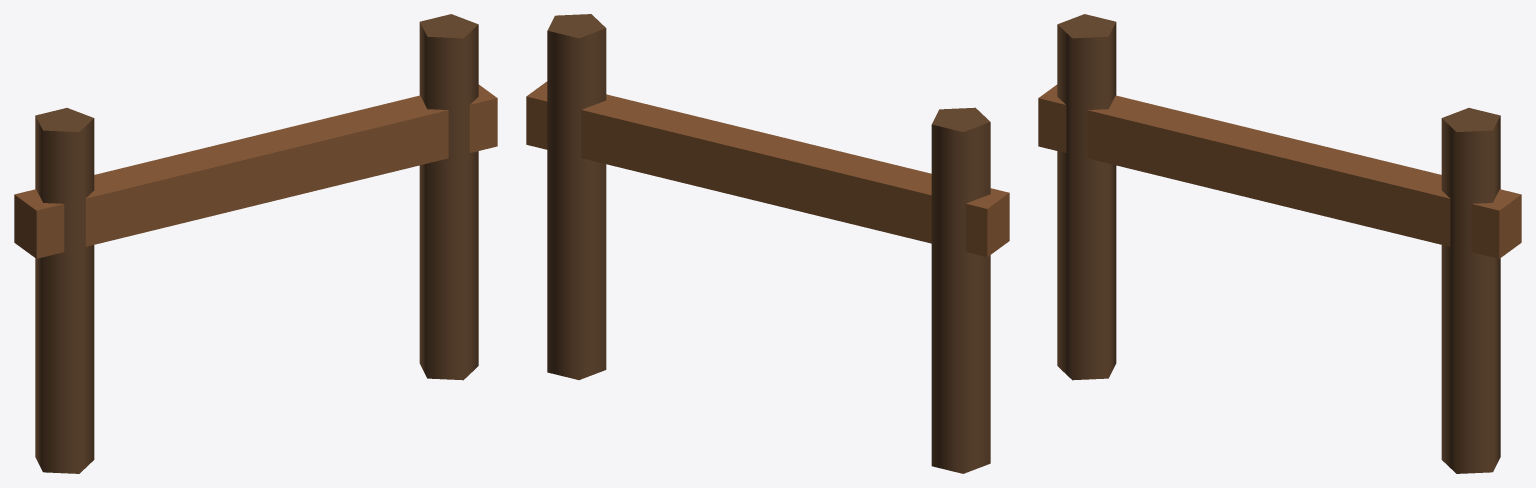
The model's file is fence.glb.
3 views of the same model, side by side, from view 1: azimuth 30°, elevation 25°; view 2: azimuth 150°, elevation 25°; view 3: azimuth 330°, elevation 25° (orthographic).
Visible parts, largest first — view 1: fence; view 2: fence; view 3: fence.
Boxes of the visible parts, x1=… form: fence: x1=14, y1=14, x2=497, y2=473; fence: x1=526, y1=14, x2=1009, y2=473; fence: x1=1038, y1=14, x2=1521, y2=473.
Size of the model in its own units: 1.2 by 0.85 by 0.1266.
